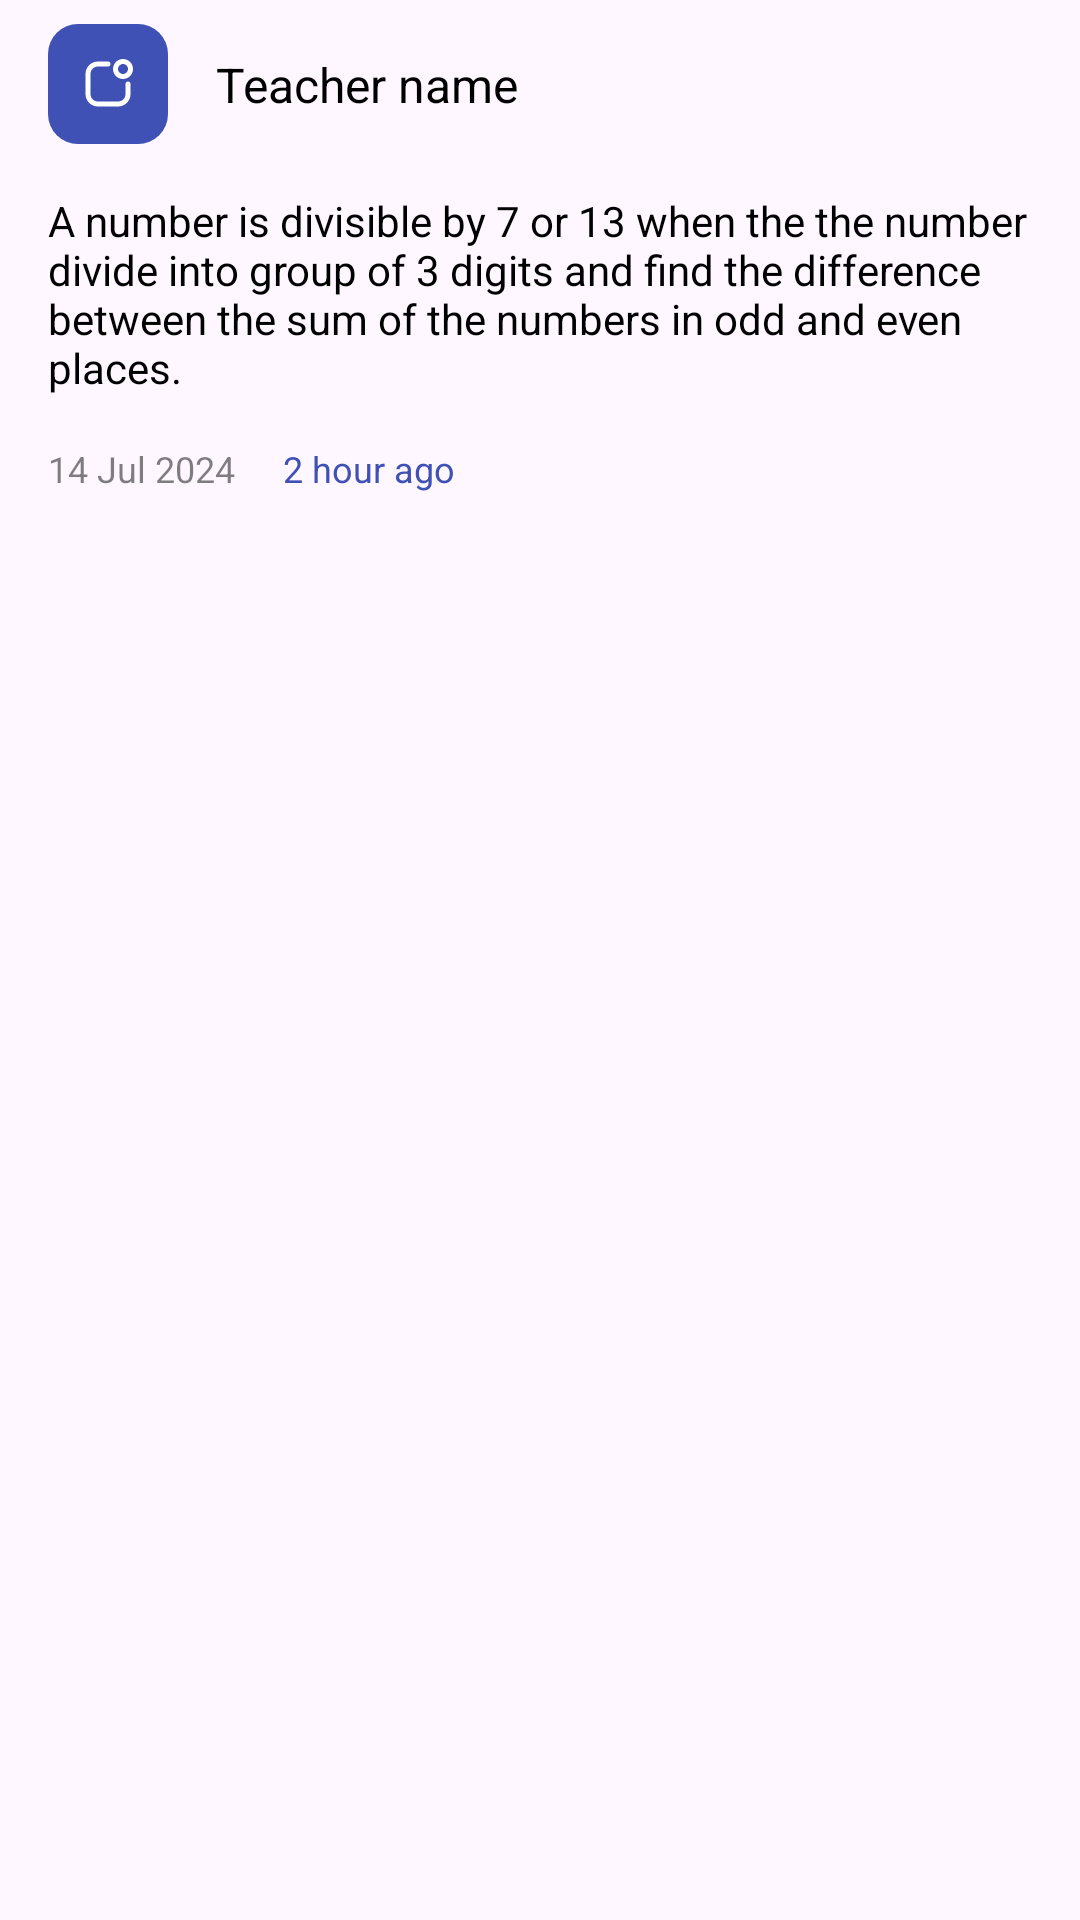

Point at icon controls on the screen. Image size 1080 × 1920, points as (x,y).
notice: (108,84)
